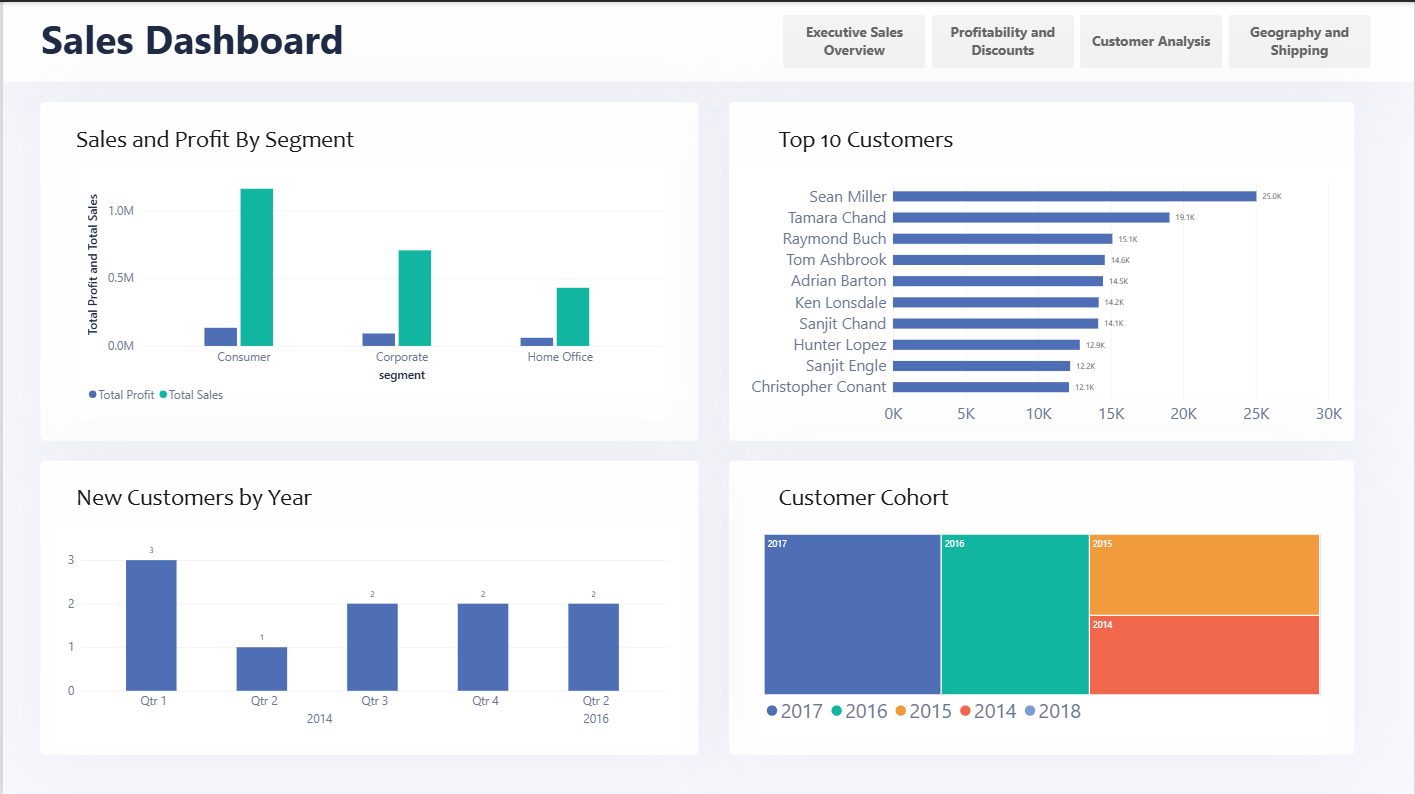

The page's visual inventory and layout, read from the dashboard file:
{"tool":"powerbi","page":{"name":"Customer Analysis","canvas":[1920,1080],"ordinal":2},"visuals":[{"type":"shape","box":[0,0,1920.8,108.9],"z":0},{"type":"textbox","box":[51,11.9,445.7,85.1],"z":1000},{"type":"pageNavigator","box":[1062.2,17.4,800.6,73.3],"z":2000},{"type":"shape","box":[51,136.1,894.9,461.1],"z":3000},{"type":"textbox","box":[99.4,167.4,458.7,55.8],"z":4000},{"type":"clusteredColumnChart","fields":{"Category":["dim_customer.segment"],"Y":["fact_sales.Total Profit","fact_sales.Total Sales"]},"box":[98.7,222.9,816.6,343.7],"z":5000},{"type":"shape","box":[988.5,136.1,850.7,461.1],"z":6000},{"type":"textbox","box":[1055.2,167.4,317.4,55.8],"z":7000},{"type":"clusteredBarChart","fields":{"Category":["dim_customer.customer_name"],"Y":["fact_sales.Total Sales"]},"box":[988.5,222.9,850.7,374.3],"z":8000},{"type":"shape","box":[988.5,624.4,850.7,399.8],"z":9000},{"type":"textbox","box":[1055.2,654.1,273.8,55.8],"z":10000},{"type":"treemap","fields":{"Group":["dim_customer.first_order_year","dim_date.year"],"Values":["fact_sales.Total Sales"]},"box":[1018.6,709.9,791.9,293],"z":11000},{"type":"shape","box":[51,624.4,894.9,399.8],"z":12000},{"type":"textbox","box":[98.7,653.3,428.7,56.1],"z":13000},{"type":"columnChart","fields":{"Category":["dim_customer.first_order_date.Variation.Date Hierarchy.Year","dim_customer.first_order_date.Variation.Date Hierarchy.Quarter"],"Y":["fact_sales.Customers"]},"box":[71.5,709.5,850.7,302.8],"z":13001}]}

Visuals, with their boxes in screenshot pixels (x1, y1, x2, y2), scaled from the page's 1920x1080 canvas onto the 1415x794 screenshot:
shape: left=0, top=0, right=1414, bottom=80
textbox: left=38, top=9, right=366, bottom=71
pageNavigator: left=783, top=13, right=1373, bottom=67
shape: left=38, top=100, right=697, bottom=439
textbox: left=73, top=123, right=411, bottom=164
clusteredColumnChart - dim_customer.segment x fact_sales.Total Profit: left=73, top=164, right=675, bottom=417
shape: left=729, top=100, right=1355, bottom=439
textbox: left=778, top=123, right=1012, bottom=164
clusteredBarChart - dim_customer.customer_name x fact_sales.Total Sales: left=729, top=164, right=1355, bottom=439
shape: left=729, top=459, right=1355, bottom=753
textbox: left=778, top=481, right=979, bottom=522
treemap - dim_customer.first_order_year x dim_date.year: left=751, top=522, right=1334, bottom=737
shape: left=38, top=459, right=697, bottom=753
textbox: left=73, top=480, right=389, bottom=522
columnChart - dim_customer.first_order_date.Variation.Date Hierarchy.Year x dim_customer.first_order_date.Variation.Date Hierarchy.Quarter: left=53, top=522, right=680, bottom=744
